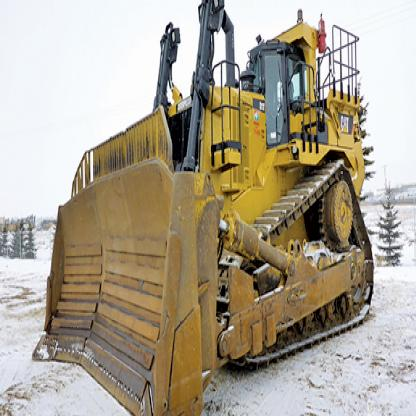bull_dozer/loader/grader: (32, 3, 382, 414)
